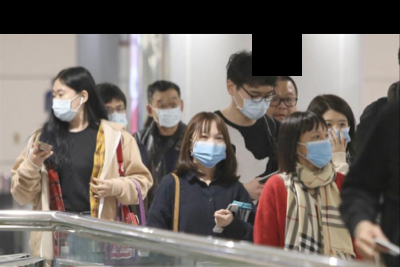with_mask: (190, 131, 227, 167), (235, 87, 274, 120), (304, 126, 333, 168), (50, 87, 80, 123), (154, 93, 182, 129), (323, 117, 350, 144), (105, 103, 128, 131)
without_mask: (266, 89, 297, 124)
